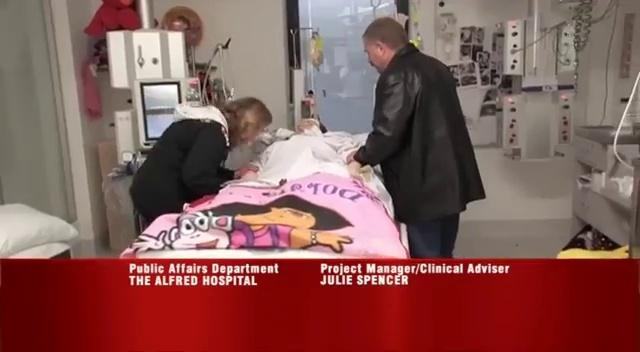others: (345, 16, 486, 258), (128, 95, 273, 227)
patient: (119, 120, 409, 259)
